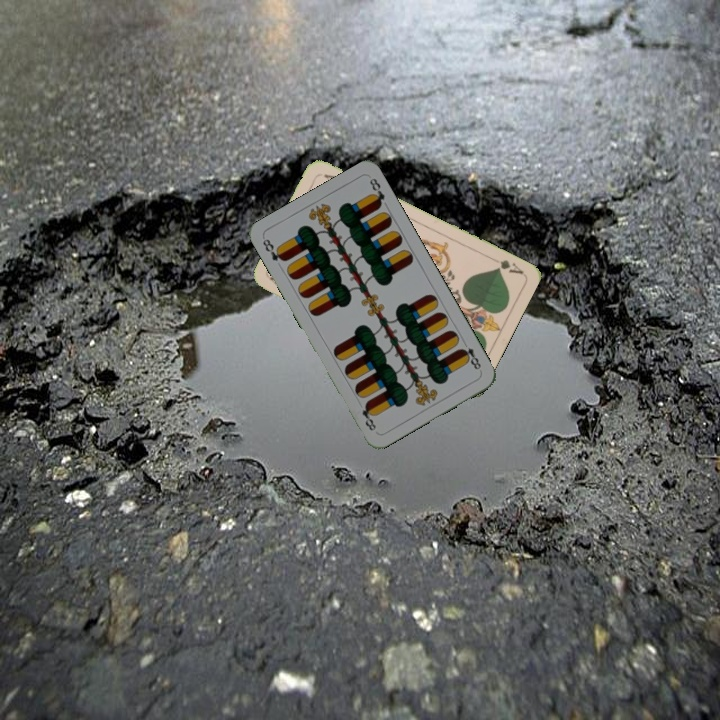E8: (456, 337, 484, 374), (258, 235, 288, 264)
GA: (487, 254, 526, 277)
